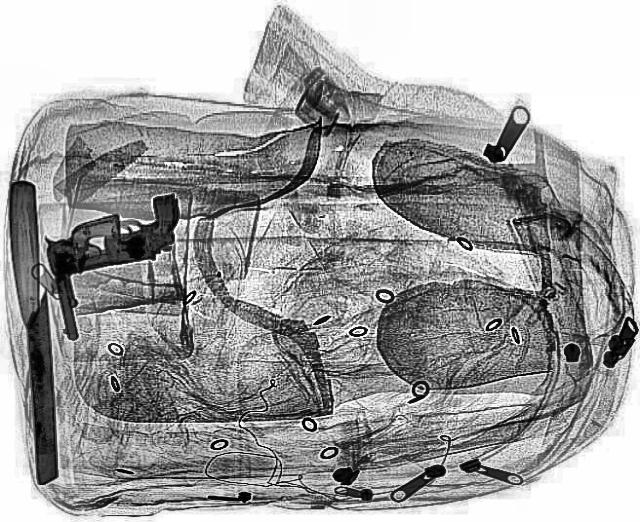Gun: (38, 213, 142, 342), (42, 192, 192, 276)
Knife: (3, 180, 65, 485)
